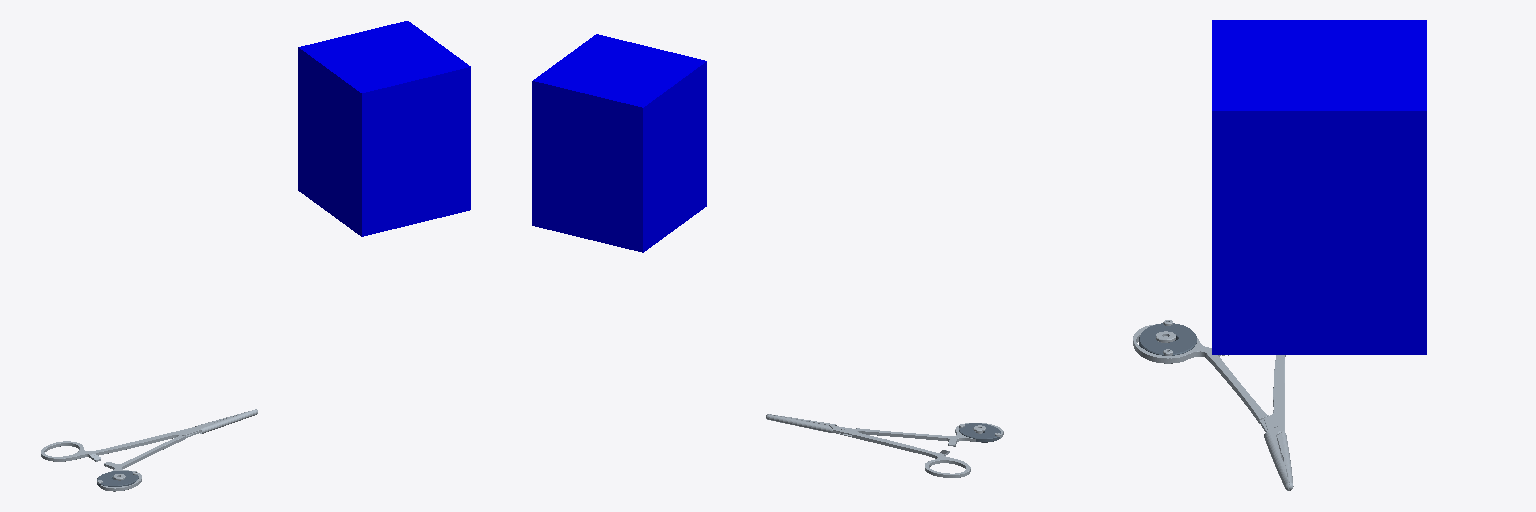
robot.urdf — lhand_pean_robot:
<?xml version='1.0' encoding='utf-8'?>
<robot name="lhand_pean_robot">
  <link name="lhand_surgery_clamp_assy_1">
    <collision>
      <origin xyz="0 0 0" rpy="0 0 0" />
      <geometry>
        <mesh filename="package://detachable_tools/meshes/pean/fixed.stl" />
      </geometry>
    </collision>
    <inertial>
      <origin xyz="-0.004059165 0.0026714 -0.000173157" rpy="0 0 0" />
      <mass value="0.00675555" />
      <inertia ixx="4.67905e-07" ixy="9.59811e-07" ixz="1.28892e-08" iyy="6.25673e-06" iyz="-3.42424e-09" izz="6.71611e-06" />
    </inertial>
    <visual name="simready_holder_fixed">
      <origin xyz="0 0 0" rpy="0 0 0" />
      <geometry>
        <mesh filename="package://detachable_tools/meshes/pean/fixed.obj" />
      </geometry>
      <material name="holder_steel">
        <color rgba=".70 .74 .78 1" />
      </material>
    </visual>
  </link>
  <link name="lhand_surgery_clamp_01_1">
    <collision>
      <origin xyz="0 0 0" rpy="0 0 0" />
      <geometry>
        <mesh filename="package://detachable_tools/meshes/pean/moving.stl" />
      </geometry>
    </collision>
    <inertial>
      <origin xyz="0.042705769 0.022098692 -0.0013036672" rpy="0 0 0" />
      <mass value="0.00562524" />
      <inertia ixx="1.16073e-06" ixy="-1.91324e-06" ixz="-4.08357e-10" iyy="4.55448e-06" iyz="4.80985e-10" izz="5.71081e-06" />
    </inertial>
    <visual name="simready_holder_moving">
      <origin xyz="0 0 0" rpy="0 0 0" />
      <geometry>
        <mesh filename="package://detachable_tools/meshes/pean/moving.obj" />
      </geometry>
      <material name="holder_steel">
        <color rgba=".70 .74 .78 1" />
      </material>
    </visual>
    <visual name="simready_holder_adapter_plate">
      <origin xyz="0 0 0" rpy="0 0 0" />
      <geometry>
        <mesh filename="package://detachable_tools/meshes/pean/plate.obj" />
      </geometry>
      <material name="holder_brushed">
        <color rgba=".42 .48 .54 1" />
      </material>
    </visual>
    <visual name="simready_holder_adapter_screw_left">
      <origin xyz="0.0629 0.0396 0.0004" rpy="0 0 0" />
      <geometry>
        <mesh filename="package://detachable_tools/meshes/pean/screw.obj" />
      </geometry>
      <material name="holder_steel">
        <color rgba=".70 .74 .78 1" />
      </material>
    </visual>
    <visual name="simready_holder_adapter_screw_right">
      <origin xyz="0.0888 0.0396 0.0004" rpy="0 0 0" />
      <geometry>
        <mesh filename="package://detachable_tools/meshes/pean/screw.obj" />
      </geometry>
      <material name="holder_steel">
        <color rgba=".70 .74 .78 1" />
      </material>
    </visual>
  </link>
  <link name="lhand_xl_xc_330_1">
    <visual>
      <origin xyz="0 0 0" rpy="0 0 0" />
      <geometry>
        <mesh filename="package://detachable_tools/meshes/surgenoid_needle_holder/XL_XC_330_1.dae" />
      </geometry>
    </visual>
    <collision>
      <origin xyz="0 0 0" rpy="0 0 0" />
      <geometry>
        <mesh filename="package://detachable_tools/meshes/surgenoid_needle_holder/XL_XC_330_1.stl" />
      </geometry>
    </collision>
    <inertial>
      <origin xyz="7.9738e-05 -0.000522082 0.000156526" rpy="0 0 0" />
      <mass value="0.0168532" />
      <inertia ixx="2.45858e-06" ixy="-2.3451e-14" ixz="4.47712e-14" iyy="1.4262e-06" iyz="-4.7932e-08" izz="2.13119e-06" />
    </inertial>
  </link>
  <link name="lhand_base_link">
    <visual>
      <origin xyz="0 0 0" rpy="0 0 0" />
      <geometry>
        <mesh filename="package://detachable_tools/meshes/surgenoid_needle_holder/screwlock_male_hard_v2_1.dae" />
      </geometry>
    </visual>
    <collision>
      <origin xyz="0 0 0" rpy="0 0 0" />
      <geometry>
        <mesh filename="package://detachable_tools/meshes/surgenoid_needle_holder/screwlock_male_hard_v2_1.stl" />
      </geometry>
    </collision>
    <inertial>
      <origin xyz="1.4366722e-05 -0.00010691039 -0.0024040291" rpy="0 0 0" />
      <mass value="0.0162824" />
      <inertia ixx="1.61417e-06" ixy="3.47268e-09" ixz="-7.7713e-10" iyy="1.62572e-06" iyz="-1.41976e-09" izz="2.52267e-06" />
    </inertial>
  </link>
  <link name="lhand_small_needle_holder_base_1">
    <visual>
      <origin xyz="0 0 0" rpy="0 0 0" />
      <geometry>
        <mesh filename="package://detachable_tools/meshes/surgenoid_needle_holder/small_needle_hoder_base_1.dae" />
      </geometry>
    </visual>
    <collision>
      <origin xyz="0 0 0" rpy="0 0 0" />
      <geometry>
        <mesh filename="package://detachable_tools/meshes/surgenoid_needle_holder/small_needle_hoder_base_1.stl" />
      </geometry>
    </collision>
    <inertial>
      <origin xyz="-0.00120503 0.0003059 -0.000101532" rpy="0 0 0" />
      <mass value="0.020773" />
      <inertia ixx="2.68109e-06" ixy="8.34229e-08" ixz="7.87172e-08" iyy="5.53461e-06" iyz="4.19901e-08" izz="7.91237e-06" />
    </inertial>
  </link>
  <link name="lhand_small_needle_holder_link1_1">
    <visual>
      <origin xyz="0 0 0" rpy="0 0 0" />
      <geometry>
        <mesh filename="package://detachable_tools/meshes/surgenoid_needle_holder/small_needle_holder_link1_1.dae" />
      </geometry>
    </visual>
    <collision>
      <origin xyz="0 0 0" rpy="0 0 0" />
      <geometry>
        <mesh filename="package://detachable_tools/meshes/surgenoid_needle_holder/small_needle_holder_link1_1.stl" />
      </geometry>
    </collision>
    <inertial>
      <origin xyz="0.0067603411 0.010742293 -0.0056220958" rpy="0 0 0" />
      <mass value="0.00332751" />
      <inertia ixx="4.67896e-07" ixy="-2.67743e-07" ixz="2.00383e-08" iyy="2.10944e-07" iyz="3.18413e-08" izz="6.2836e-07" />
    </inertial>
  </link>
  <link name="lhand_small_needle_holder_link2_1">
    <visual>
      <origin xyz="0 0 0" rpy="0 0 0" />
      <geometry>
        <mesh filename="package://detachable_tools/meshes/surgenoid_needle_holder/small_needle_holder_link2_1.dae" />
      </geometry>
    </visual>
    <collision>
      <origin xyz="0 0 0" rpy="0 0 0" />
      <geometry>
        <mesh filename="package://detachable_tools/meshes/surgenoid_needle_holder/small_needle_holder_link2_1.stl" />
      </geometry>
    </collision>
    <inertial>
      <origin xyz="-0.034350012 0.015044146 0.0115" rpy="0 0 0" />
      <mass value="0.00195003" />
      <inertia ixx="1.82933e-07" ixy="3.91066e-07" ixz="-1.45386e-22" iyy="9.04573e-07" iyz="6.36835e-23" izz="1.08458e-06" />
    </inertial>
    <visual name="simready_holder_adapter_pin">
      <origin xyz="-0.0687 0.0300882 0.0115" rpy="0 0 0" />
      <geometry>
        <mesh filename="package://detachable_tools/meshes/pean/pin.obj" />
      </geometry>
      <material name="holder_steel">
        <color rgba=".70 .74 .78 1" />
      </material>
    </visual>
  </link>
  <joint name="lhand_holder_base_to_motor" type="fixed">
    <origin xyz="0.038688034 -0.006248738 0.011774486" rpy="-3.141592607 0 1.5707963" />
    <parent link="lhand_small_needle_holder_base_1" />
    <child link="lhand_xl_xc_330_1" />
    <axis xyz="0 0 -1" />
  </joint>
  <joint name="lhand_holder_base_to_clamp" type="fixed">
    <origin xyz="-0.037277901 0.011289345 -0.004030915" rpy="0 0 -3.0922928" />
    <parent link="lhand_small_needle_holder_base_1" />
    <child link="lhand_surgery_clamp_assy_1" />
    <axis xyz="0 0 -1" />
  </joint>
  <joint name="lhand_holder_screw_to_base" type="fixed">
    <origin xyz="-0.009065668 -0.000168333 -0.015571405" rpy="-6.327e-06 -2.654e-06 3.141589" />
    <parent link="lhand_base_link" />
    <child link="lhand_small_needle_holder_base_1" />
    <axis xyz="0 0 1" />
  </joint>
  <joint name="lhand_holder_jaw_joint" type="revolute">
    <origin xyz="0.040124645 -0.00714826 0.001320943" rpy="0 0 3.0922928" />
    <parent link="lhand_surgery_clamp_assy_1" />
    <child link="lhand_surgery_clamp_01_1" />
    <axis xyz="0 0 -1" />
    <limit lower="-0.29662" upper="0.44772" effort="10" velocity="3.14" />
    <mimic joint="lhand_joint" multiplier="0.581031" offset="0" />
  </joint>
  <joint name="lhand_joint" type="revolute">
    <origin xyz="7.9738e-05 0.006746875 0.013703058" rpy="-3.141592607 0 1.5707963" />
    <parent link="lhand_xl_xc_330_1" />
    <child link="lhand_small_needle_holder_link1_1" />
    <axis xyz="0 0 -1" />
    <limit lower="-12.566" upper="12.566" effort="10" velocity="3.14" />
  </joint>
  <joint name="lhand_holder_tip_joint" type="revolute">
    <origin xyz="0.020772397 0.033007689 -0.017" rpy="0 -0 0" />
    <parent link="lhand_small_needle_holder_link1_1" />
    <child link="lhand_small_needle_holder_link2_1" />
    <axis xyz="0 0 1" />
    <limit lower="-0.84903" upper="0.87973" effort="10" velocity="3.14" />
    <mimic joint="lhand_joint" multiplier="1.35269" offset="0" />
  </joint>
  <link name="lhand_detach_link_0">
    <visual>
      <origin xyz="0.12 0 0.05" rpy="0 0 0" />
      <geometry>
        <box size="0.08 0.08 0.1" />
      </geometry>
      <material name="lhand_detach_link_0_material">
        <color rgba="0 0 1 1" />
      </material>
    </visual>
    <inertial>
      <origin xyz="0 0 0" rpy="0 0 0" />
      <mass value="0.01" />
      <inertia ixx="1e-5" ixy="0" ixz="0" iyy="1e-5" iyz="0" izz="1e-5" />
    </inertial>
  </link>
  <joint name="lhand_detach_joint_0" type="continuous">
    <origin xyz="0.1 0 0.1" rpy="0 0 0" />
    <parent link="lhand_base_link" />
    <child link="lhand_detach_link_0" />
    <axis xyz="0 1 0" />
    <limit effort="2.0" velocity="6.8" />
  </joint>
  <transmission name="lhand_trans">
    <type>transmission_interface/SimpleTransmission</type>
    <joint name="lhand_joint">
      <hardwareInterface>hardware_interface/PositionJointInterface</hardwareInterface>
      <hardwareInterface>hardware_interface/EffortJointInterface</hardwareInterface>
      <offset>0.0</offset>
    </joint>
    <actuator name="lhand_motor">
      <mechanicalReduction>1.0</mechanicalReduction>
    </actuator>
  </transmission>
  <transmission name="lhand_detach_0_trans">
    <type>transmission_interface/SimpleTransmission</type>
    <joint name="lhand_detach_joint_0">
      <hardwareInterface>hardware_interface/PositionJointInterface</hardwareInterface>
      <hardwareInterface>hardware_interface/EffortJointInterface</hardwareInterface>
      <offset>0.0</offset>
    </joint>
    <actuator name="lhand_detach_motor_0">
      <mechanicalReduction>1.0</mechanicalReduction>
    </actuator>
  </transmission>
  <ros2_control name="lhand_pean" type="system">
    <hardware>
      <plugin>mock_components/GenericSystem</plugin>
    </hardware>
    <joint name="lhand_joint">
      <command_interface name="position" />
      <command_interface name="effort" />
      <state_interface name="position" />
      <state_interface name="velocity" />
      <state_interface name="effort" />
    </joint>
  </ros2_control>
  <link name="lhand_tip_link" />
  <joint name="lhand_pean_tip" type="fixed">
    <parent link="lhand_base_link" />
    <child link="lhand_tip_link" />
    <origin xyz="0.12057141841795116 -0.011085532314509448 -0.019625929319041276" rpy="0 0 0" />
  </joint>
</robot>

--- What the picture shows (computed from the rendered views, not written in the file) ---
The picture shows the robot from 3 angles, left to right: view 1: azimuth 30°, elevation 25°; view 2: azimuth 150°, elevation 25°; view 3: azimuth 270°, elevation 25°; orthographic projection.
Model lhand_pean_robot with 9 links and 8 joints (3 revolute, 1 continuous, 4 fixed), rooted at lhand_base_link, posed every joint at zero.
Links seen in each view (by area): view 1: lhand_detach_link_0, lhand_surgery_clamp_assy_1, lhand_surgery_clamp_01_1; view 2: lhand_detach_link_0, lhand_surgery_clamp_01_1, lhand_surgery_clamp_assy_1; view 3: lhand_detach_link_0, lhand_surgery_clamp_01_1, lhand_surgery_clamp_assy_1.
Boxes of the visible links, left/top/right/bottom form: lhand_detach_link_0: left=298, top=21, right=470, bottom=236; lhand_surgery_clamp_assy_1: left=41, top=409, right=257, bottom=461; lhand_surgery_clamp_01_1: left=97, top=411, right=248, bottom=491; lhand_detach_link_0: left=532, top=34, right=706, bottom=252; lhand_surgery_clamp_01_1: left=766, top=415, right=1003, bottom=446; lhand_surgery_clamp_assy_1: left=767, top=414, right=970, bottom=477; lhand_detach_link_0: left=1212, top=20, right=1426, bottom=354; lhand_surgery_clamp_01_1: left=1133, top=320, right=1293, bottom=490; lhand_surgery_clamp_assy_1: left=1264, top=355, right=1290, bottom=490.
Bounding box of the posed robot: 0.2905 × 0.1093 × 0.225 m (x, y, z).
Meshes: 10 distinct files referenced, 6 mesh visuals loaded (5 OBJ); not drawn: 5 (reference not matched to a file when rendering).
